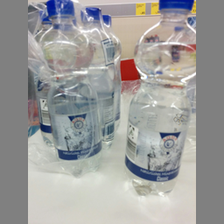water: (126, 1, 195, 196), (41, 1, 102, 178)
